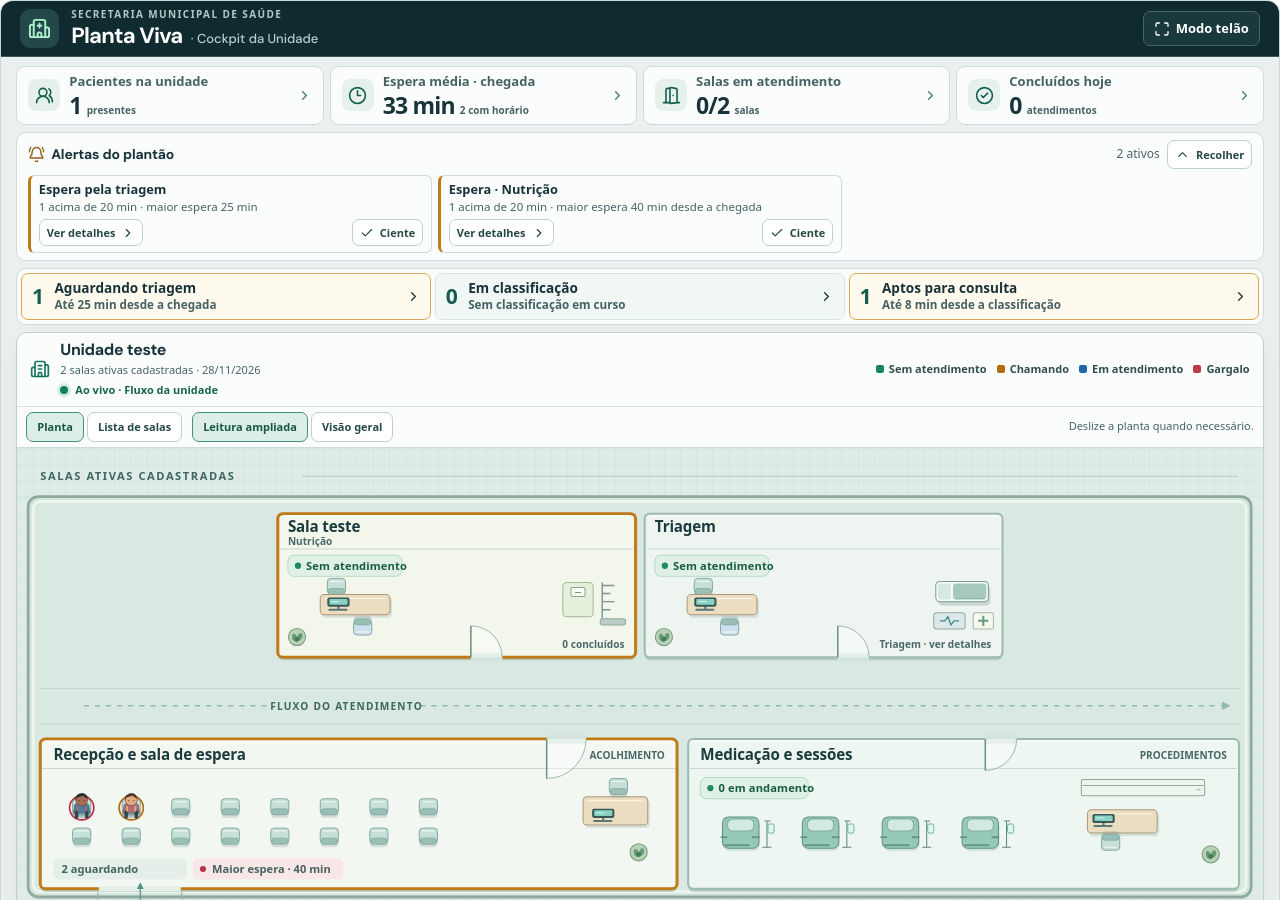
Scenario: separa as etapas com seus próprios horários e mantém só a sala de triagem cadastrada na planta
Check: the button "1 Aguardando triagem Até 25 min desde a chegada" is shown, box [21,273,431,320]
Click the button "1 Aptos para consulta Até 8 min desde a classificação" at (1054, 296), box [849,273,1259,320]
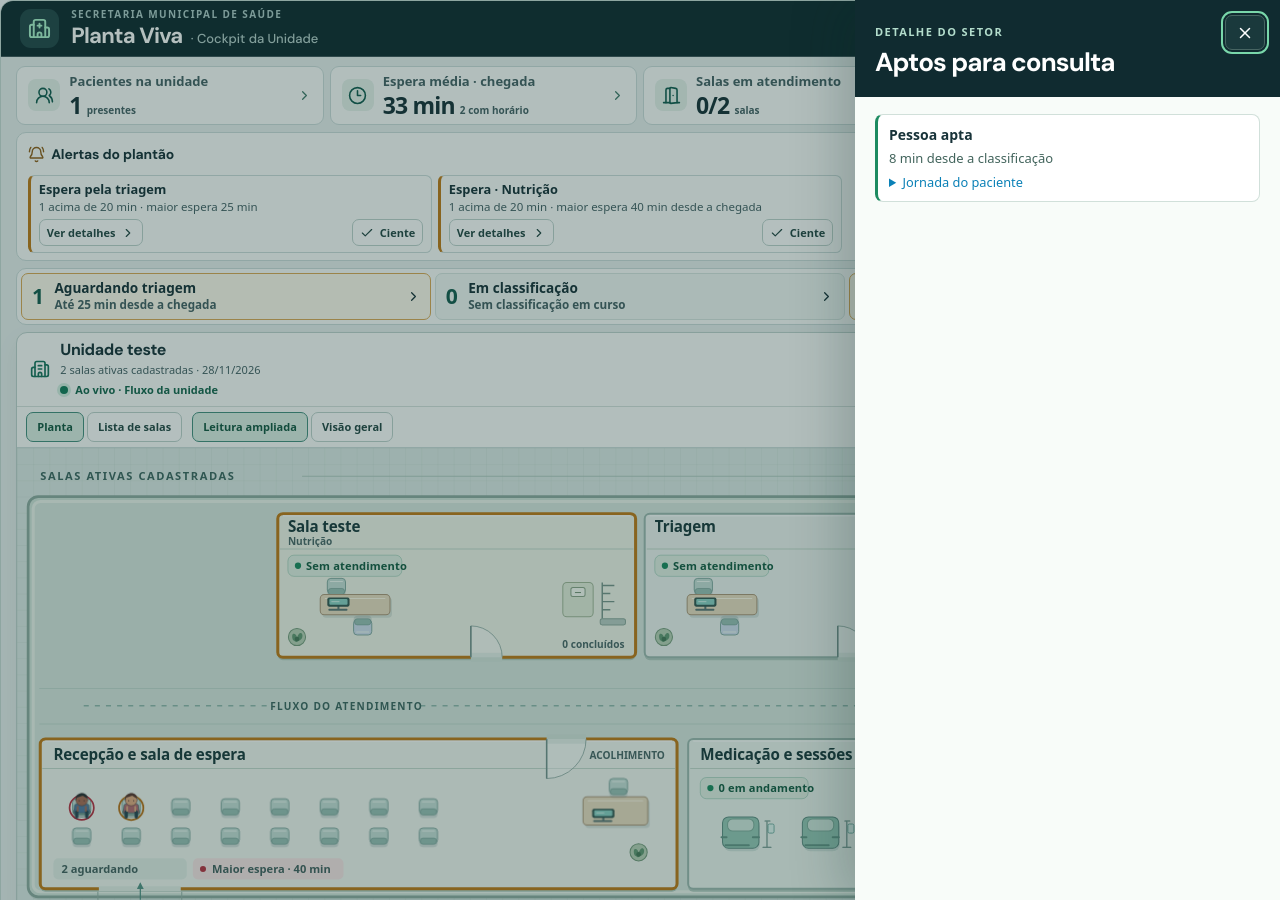
Check: the text "Pessoa apta" is shown, box [889,125,973,144]
